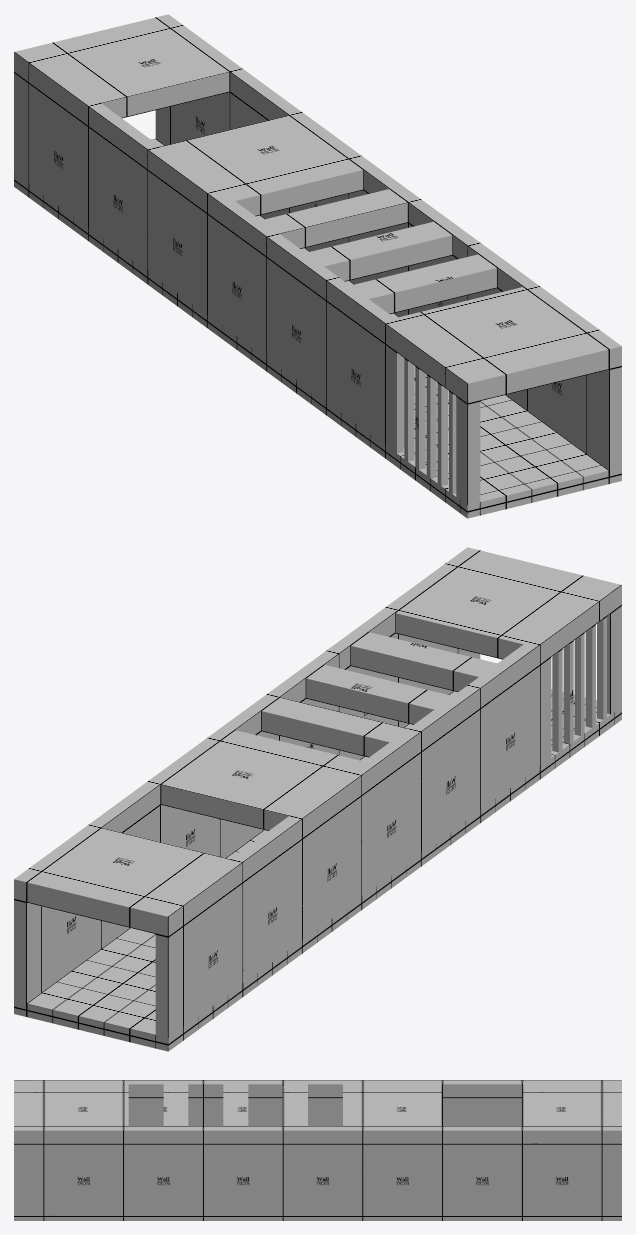
The model's file is rad.obj.
3 views of the same model, one above another, from view 1: azimuth 30°, elevation 25°; view 2: azimuth 150°, elevation 25°; view 3: azimuth 270°, elevation 25° (orthographic). The views are drawn at different scales.
Parts seen in each view (by area): view 1: entity0_brush8, entity0_brush1, entity0_brush0, entity0_brush6, entity0_brush3, entity0_brush2, entity0_brush4, entity0_brush7, entity0_brush5, entity0_brush16, entity0_brush9, entity0_brush11 (+5 smaller); view 2: entity0_brush8, entity0_brush1, entity0_brush0, entity0_brush6, entity0_brush2, entity0_brush3, entity0_brush5, entity0_brush7, entity0_brush4, entity0_brush16, entity0_brush9, entity0_brush14 (+4 smaller); view 3: entity0_brush1, entity0_brush8, entity0_brush6, entity0_brush2, entity0_brush3, entity0_brush5, entity0_brush7, entity0_brush4, entity0_brush16.
Part boxes in pixels (bbox=[...]): entity0_brush8: bbox=[14, 49, 405, 462]; entity0_brush1: bbox=[155, 14, 621, 483]; entity0_brush0: bbox=[14, 138, 608, 518]; entity0_brush6: bbox=[395, 287, 608, 400]; entity0_brush3: bbox=[161, 115, 363, 216]; entity0_brush2: bbox=[27, 17, 229, 118]; entity0_brush4: bbox=[261, 189, 408, 248]; entity0_brush7: bbox=[350, 254, 497, 314]; entity0_brush5: bbox=[306, 221, 452, 281]; entity0_brush16: bbox=[393, 326, 480, 403]; entity0_brush9: bbox=[456, 396, 480, 517]; entity0_brush11: bbox=[437, 382, 447, 485]; entity0_brush8: bbox=[155, 636, 547, 1051]; entity0_brush1: bbox=[14, 547, 480, 1016]; entity0_brush0: bbox=[27, 689, 621, 1051]; entity0_brush6: bbox=[395, 550, 608, 659]; entity0_brush2: bbox=[27, 828, 229, 933]; entity0_brush3: bbox=[160, 730, 363, 830]; entity0_brush5: bbox=[305, 664, 452, 724]; entity0_brush7: bbox=[350, 632, 497, 691]; entity0_brush4: bbox=[261, 697, 407, 757]; entity0_brush16: bbox=[535, 582, 621, 659]; entity0_brush9: bbox=[607, 605, 621, 727]; entity0_brush14: bbox=[552, 649, 562, 752]; entity0_brush1: bbox=[14, 1126, 621, 1220]; entity0_brush8: bbox=[113, 1080, 621, 1126]; entity0_brush6: bbox=[14, 1084, 128, 1126]; entity0_brush2: bbox=[522, 1084, 621, 1126]; entity0_brush3: bbox=[343, 1084, 442, 1126]; entity0_brush5: bbox=[223, 1084, 248, 1126]; entity0_brush7: bbox=[163, 1084, 188, 1126]; entity0_brush4: bbox=[283, 1084, 307, 1126]; entity0_brush16: bbox=[14, 1080, 113, 1084].
Size of the model in its own units: 384 by 320 by 1952.
